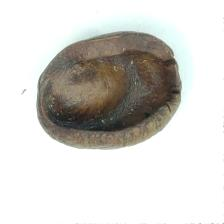NG: (38, 32, 180, 148)
